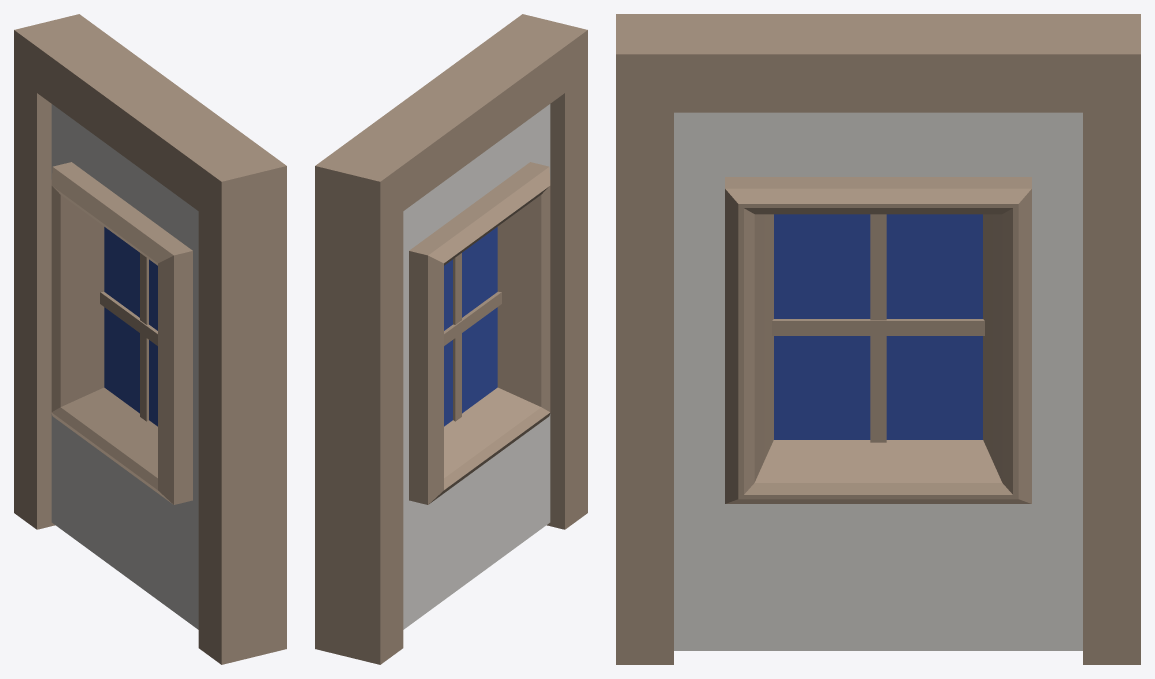
File: Window_house01.obj
3 renders of one model, left to right at view 1: azimuth 30°, elevation 25°; view 2: azimuth 150°, elevation 25°; view 3: azimuth 270°, elevation 25°, orthographic. The views are drawn at different scales.
Visible parts, largest first — view 1: Window_house01_Cube.003; view 2: Window_house01_Cube.003; view 3: Window_house01_Cube.003.
Boxes of the visible parts, <box> form: Window_house01_Cube.003: <box>14,14,286,664</box>; Window_house01_Cube.003: <box>315,14,587,664</box>; Window_house01_Cube.003: <box>616,14,1140,664</box>.
Size of the model in its own units: 0.6544 by 3.31 by 2.58.
